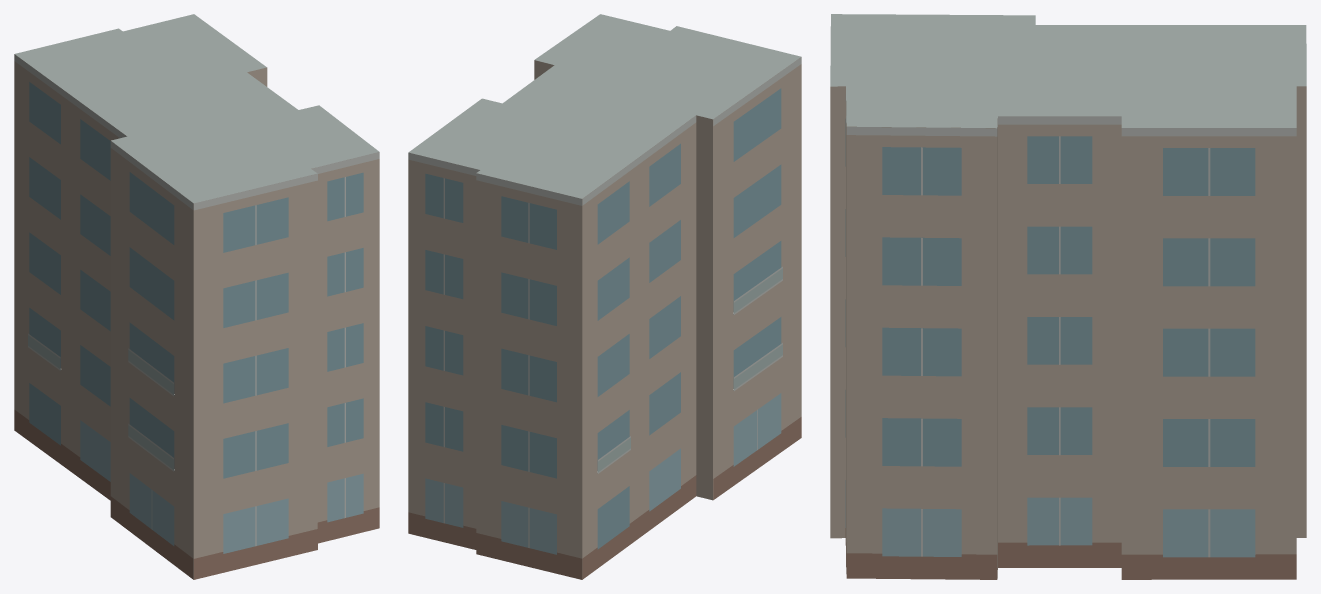
The model's file is survey-upis-32822466.glb.
3 views of the same model, side by side, from view 1: azimuth 30°, elevation 25°; view 2: azimuth 150°, elevation 25°; view 3: azimuth 270°, elevation 25° (orthographic). The views are drawn at different scales.
Visible parts, largest first — view 1: survey-upis-32822466.tmp; view 2: survey-upis-32822466.tmp; view 3: survey-upis-32822466.tmp.
Part boxes in pixels (left/top/right/bottom): survey-upis-32822466.tmp: left=14, top=14, right=379, bottom=579; survey-upis-32822466.tmp: left=408, top=14, right=801, bottom=579; survey-upis-32822466.tmp: left=830, top=14, right=1306, bottom=579.
Bounding box in the file's own units: 7.15 × 13.15 × 12.58.
